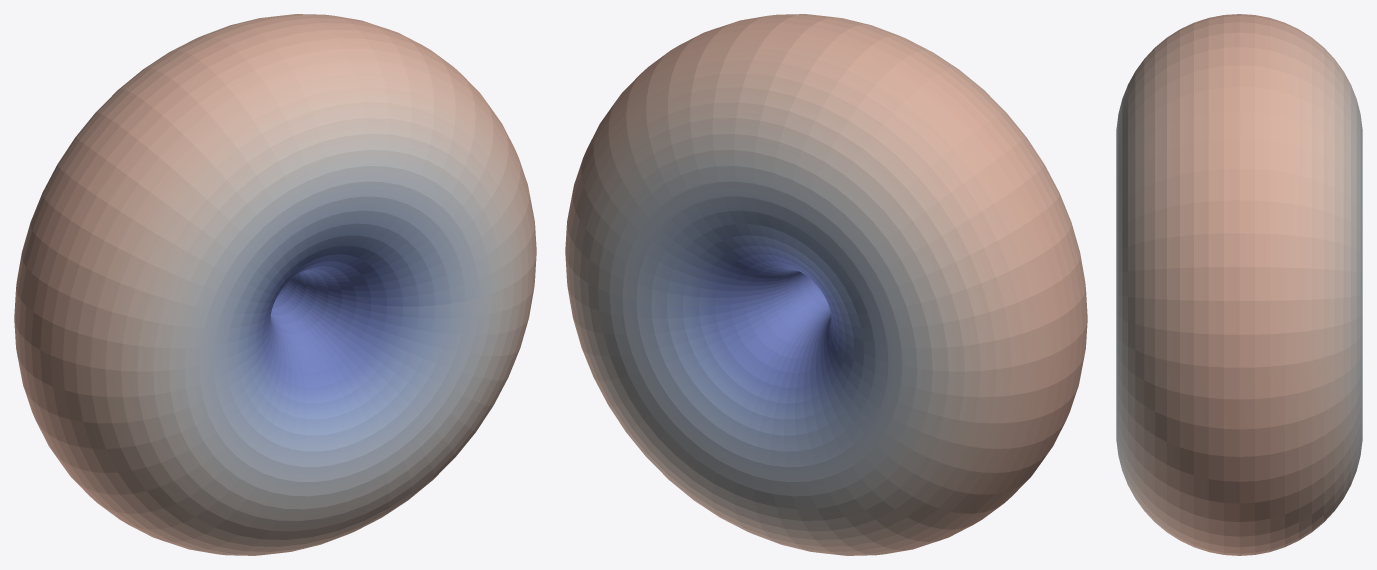
3 renders of one model, left to right at view 1: azimuth 30°, elevation 25°; view 2: azimuth 150°, elevation 25°; view 3: azimuth 270°, elevation 25°, orthographic. The views are drawn at different scales.
Visible parts, largest first — view 1: world; view 2: world; view 3: world.
Part boxes in pixels (left/top/right/bottom): world: left=14, top=14, right=536, bottom=555; world: left=565, top=14, right=1087, bottom=555; world: left=1116, top=14, right=1362, bottom=555.
Size of the model in its own units: 20.8 by 20.76 by 9.45.
